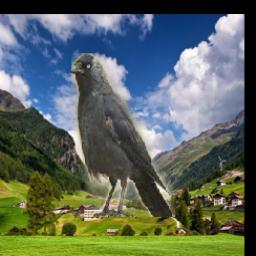Crow: (70, 54, 174, 218)
